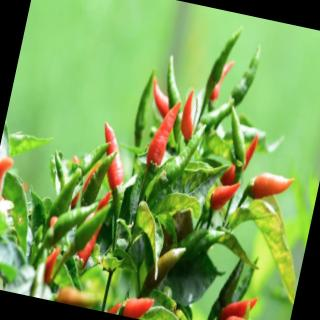Cabai Hijau: (194, 15, 251, 116), (161, 214, 229, 296), (70, 137, 123, 213)
